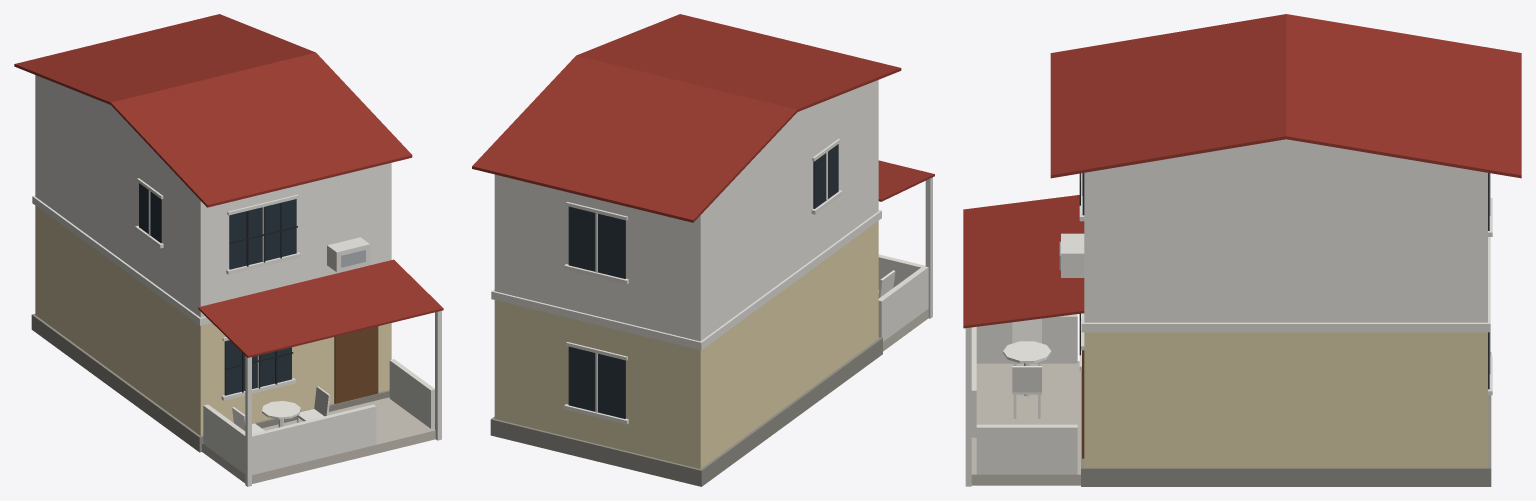
File: BAY_F_TwoStorey_N.glb
3 renders of one model, left to right at view 1: azimuth 30°, elevation 25°; view 2: azimuth 150°, elevation 25°; view 3: azimuth 270°, elevation 25°, orthographic. The views are drawn at different scales.
Visible parts, largest first — view 1: BAY_F_TwoStorey_N; view 2: BAY_F_TwoStorey_N; view 3: BAY_F_TwoStorey_N.
Boxes of the visible parts, bbox=[...] form: BAY_F_TwoStorey_N: bbox=[14, 14, 443, 486]; BAY_F_TwoStorey_N: bbox=[472, 14, 934, 486]; BAY_F_TwoStorey_N: bbox=[963, 14, 1521, 486].
Bounding box in the file's own units: 4.3 × 5.8 × 8.3.
Materials: 1 (1 with a texture image).
